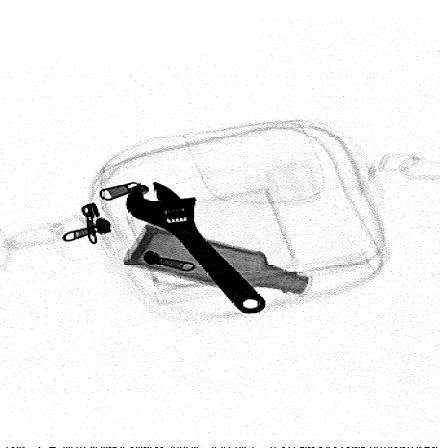Wrench: (124, 180, 268, 316)
